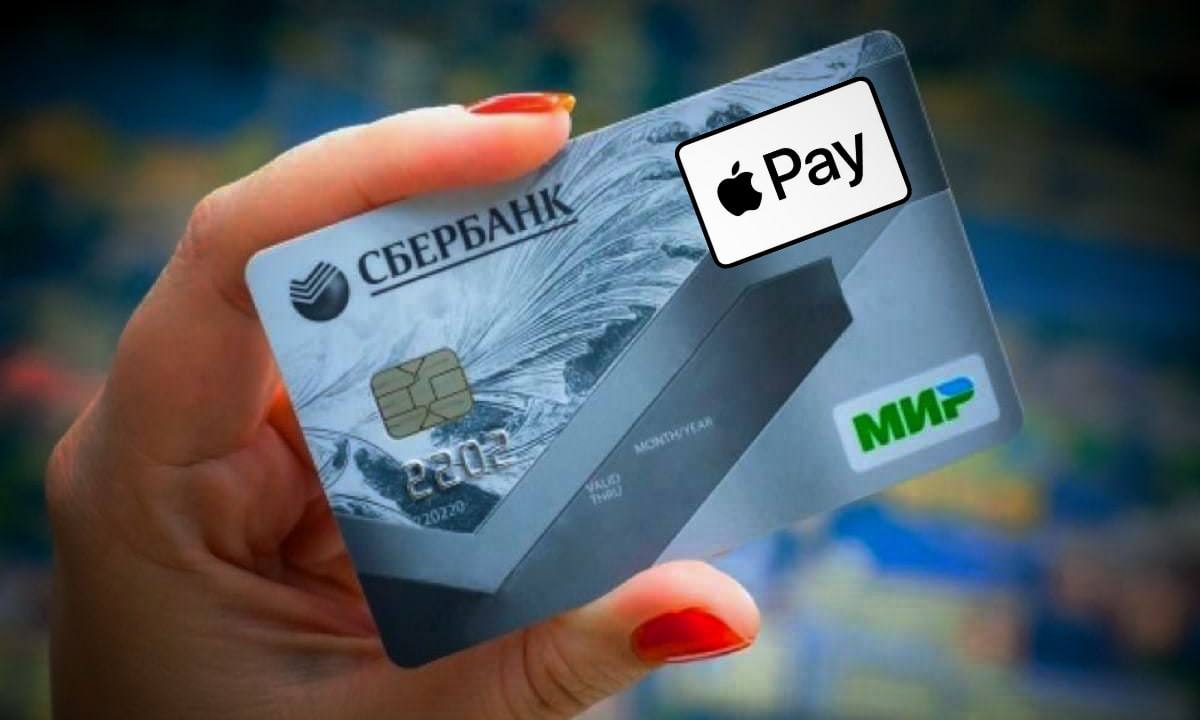card: (242, 29, 1026, 668)
